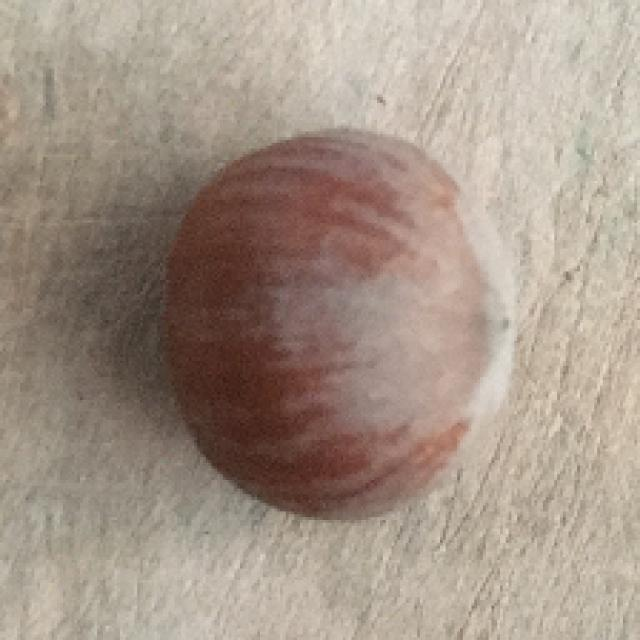QualityHazelnut: (161, 126, 524, 530)
